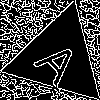A: (33, 32, 91, 89)
